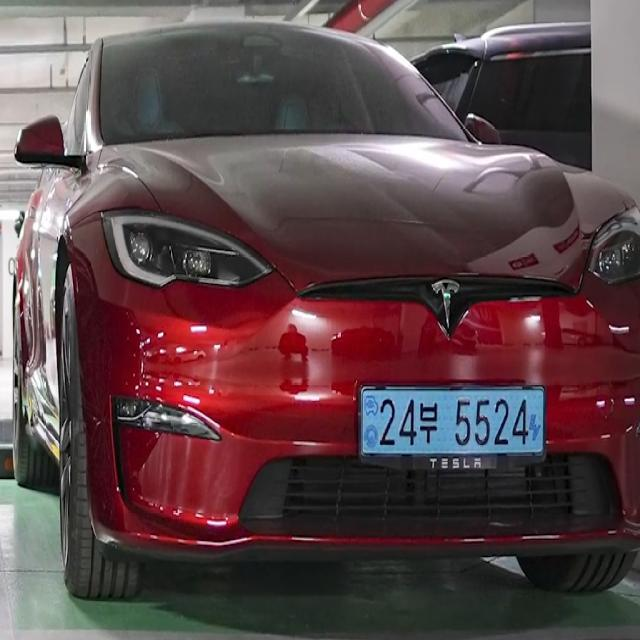car: (342, 377, 561, 487)
carev: (353, 381, 379, 467), (526, 385, 546, 463)
